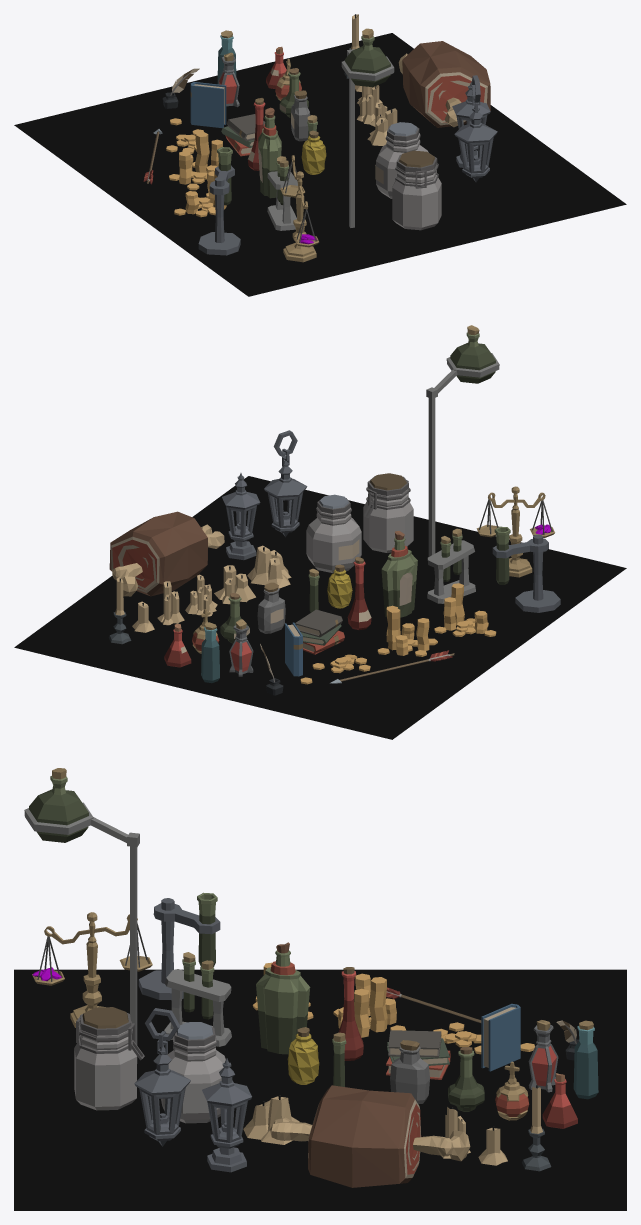
3 views of the same model, one above another, from view 1: azimuth 30°, elevation 25°; view 2: azimuth 150°, elevation 25°; view 3: azimuth 270°, elevation 25° (orthographic). The views are drawn at different scales.
Visible parts, largest first — view 1: samor_2415_01, samor_2415_133, samor_2415_18, samor_2415_35, samor_2415_91, samor_2415_06, samor_2415_78, samor_2415_79, samor_2415_40, samor_2415_42, samor_2415_82, samor_2415_92 (+13 smaller); view 2: samor_2415_01, samor_2415_133, samor_2415_35, samor_2415_40, samor_2415_18, samor_2415_79, samor_2415_02, samor_2415_06, samor_2415_91, samor_2415_92, samor_2415_42, samor_2415_61 (+12 smaller); view 3: samor_2415_01, samor_2415_133, samor_2415_18, samor_2415_79, samor_2415_35, samor_2415_02, samor_2415_06, samor_2415_91, samor_2415_40, samor_2415_78, samor_2415_42, samor_2415_92 (+19 smaller).
Boxes of the visible parts, x1=… form: samor_2415_01: x1=14, y1=33, x2=626, y2=296; samor_2415_133: x1=398, y1=41, x2=490, y2=127; samor_2415_18: x1=392, y1=164, x2=441, y2=230; samor_2415_35: x1=198, y1=147, x2=240, y2=255; samor_2415_91: x1=341, y1=28, x2=394, y2=87; samor_2415_06: x1=454, y1=106, x2=497, y2=182; samor_2415_78: x1=190, y1=82, x2=226, y2=128; samor_2415_79: x1=258, y1=107, x2=281, y2=198; samor_2415_40: x1=376, y1=133, x2=428, y2=198; samor_2415_42: x1=267, y1=171, x2=297, y2=230; samor_2415_82: x1=283, y1=171, x2=316, y2=262; samor_2415_92: x1=347, y1=49, x2=354, y2=227; samor_2415_01: x1=14, y1=476, x2=626, y2=739; samor_2415_133: x1=109, y1=511, x2=224, y2=596; samor_2415_35: x1=492, y1=526, x2=560, y2=612; samor_2415_40: x1=306, y1=507, x2=361, y2=573; samor_2415_18: x1=363, y1=487, x2=413, y2=552; samor_2415_79: x1=381, y1=531, x2=417, y2=617; samor_2415_02: x1=222, y1=473, x2=260, y2=560; samor_2415_06: x1=264, y1=460, x2=307, y2=536; samor_2415_91: x1=446, y1=325, x2=499, y2=383; samor_2415_92: x1=426, y1=369, x2=457, y2=556; samor_2415_42: x1=427, y1=540, x2=475, y2=603; samor_2415_61: x1=257, y1=582, x2=285, y2=633; samor_2415_01: x1=14, y1=969, x2=626, y2=1210; samor_2415_133: x1=270, y1=1085, x2=470, y2=1187; samor_2415_18: x1=74, y1=1026, x2=136, y2=1110; samor_2415_79: x1=256, y1=942, x2=310, y2=1054; samor_2415_35: x1=138, y1=892, x2=220, y2=1000; samor_2415_02: x1=202, y1=1058, x2=251, y2=1172; samor_2415_06: x1=134, y1=1046, x2=190, y2=1146; samor_2415_91: x1=24, y1=768, x2=93, y2=842; samor_2415_40: x1=161, y1=1035, x2=225, y2=1123; samor_2415_78: x1=481, y1=1003, x2=520, y2=1071; samor_2415_42: x1=164, y1=969, x2=231, y2=1046; samor_2415_92: x1=90, y1=817, x2=139, y2=1063.
Bounding box in the file's own units: 2336 × 1330 × 2508.
Materials: 2 (1 with a texture image).
